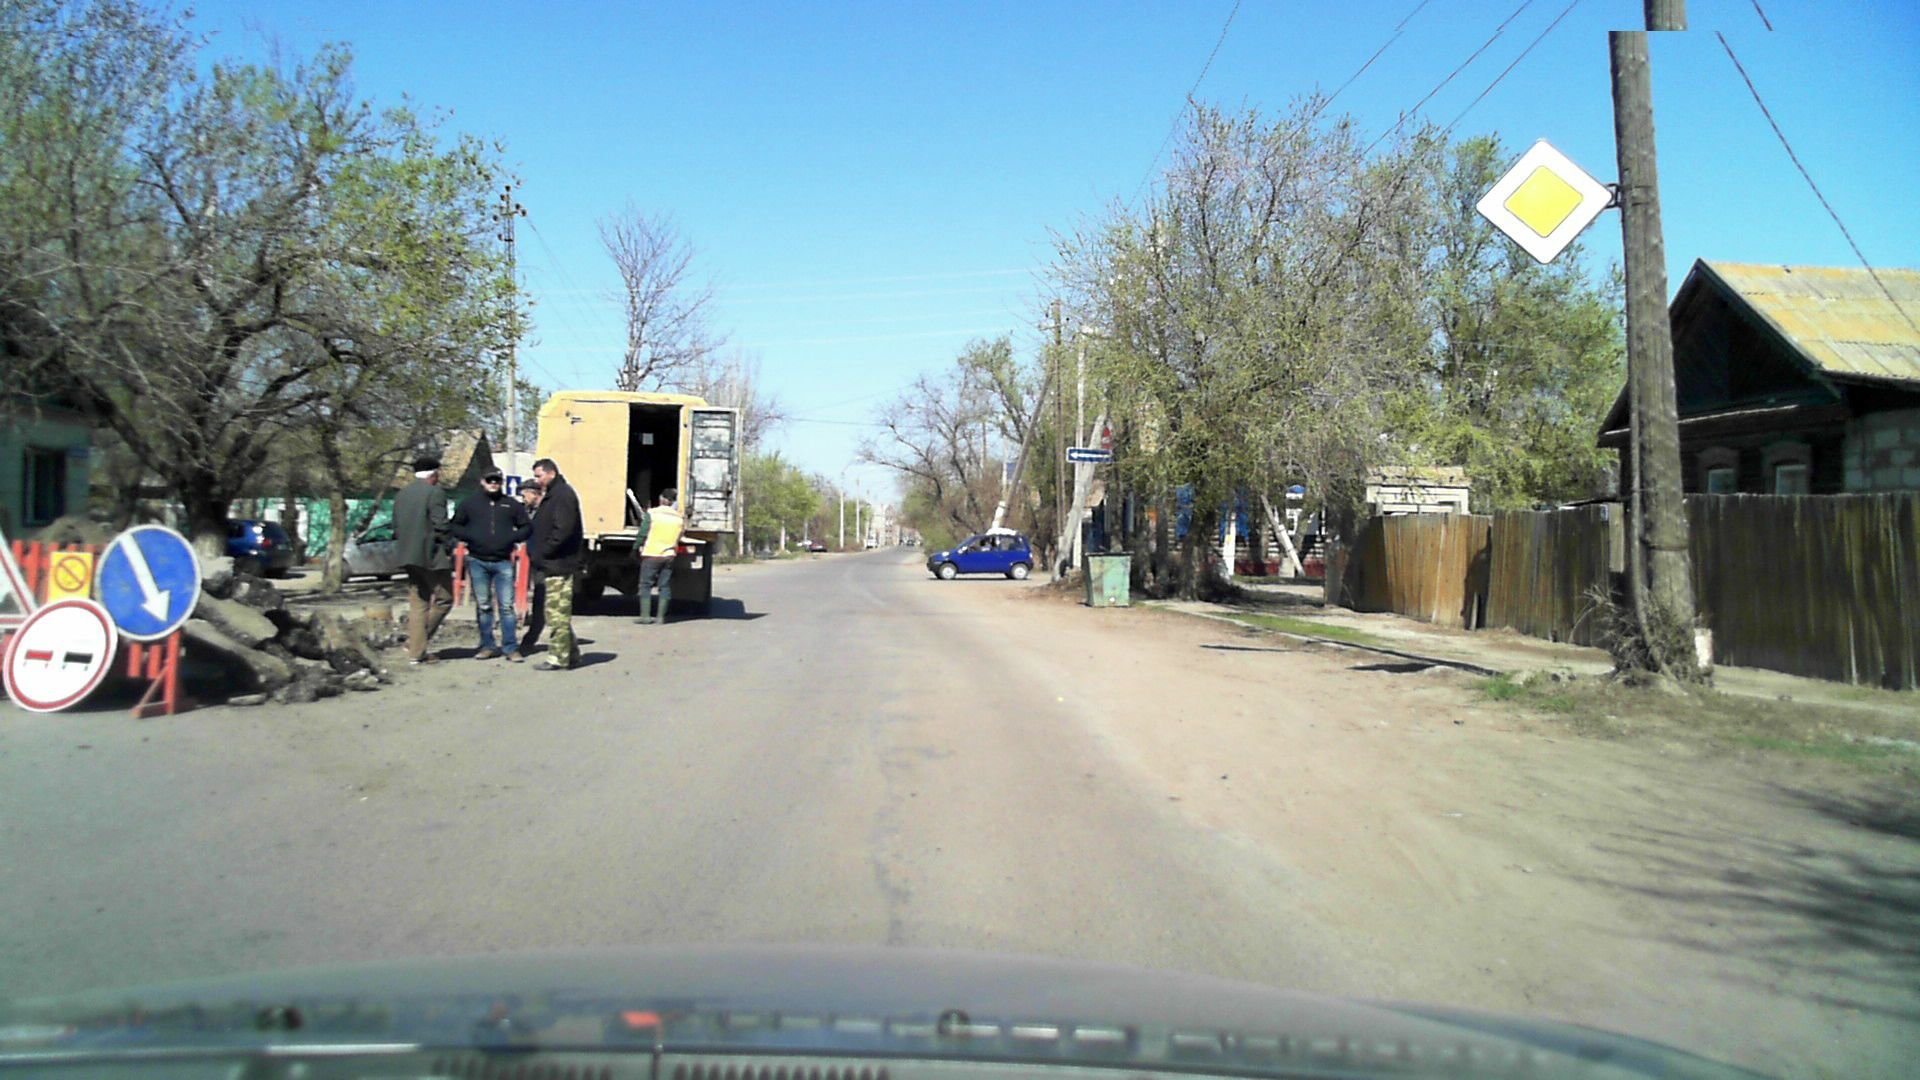One-Way Traffic: (1065, 448, 1114, 462)
